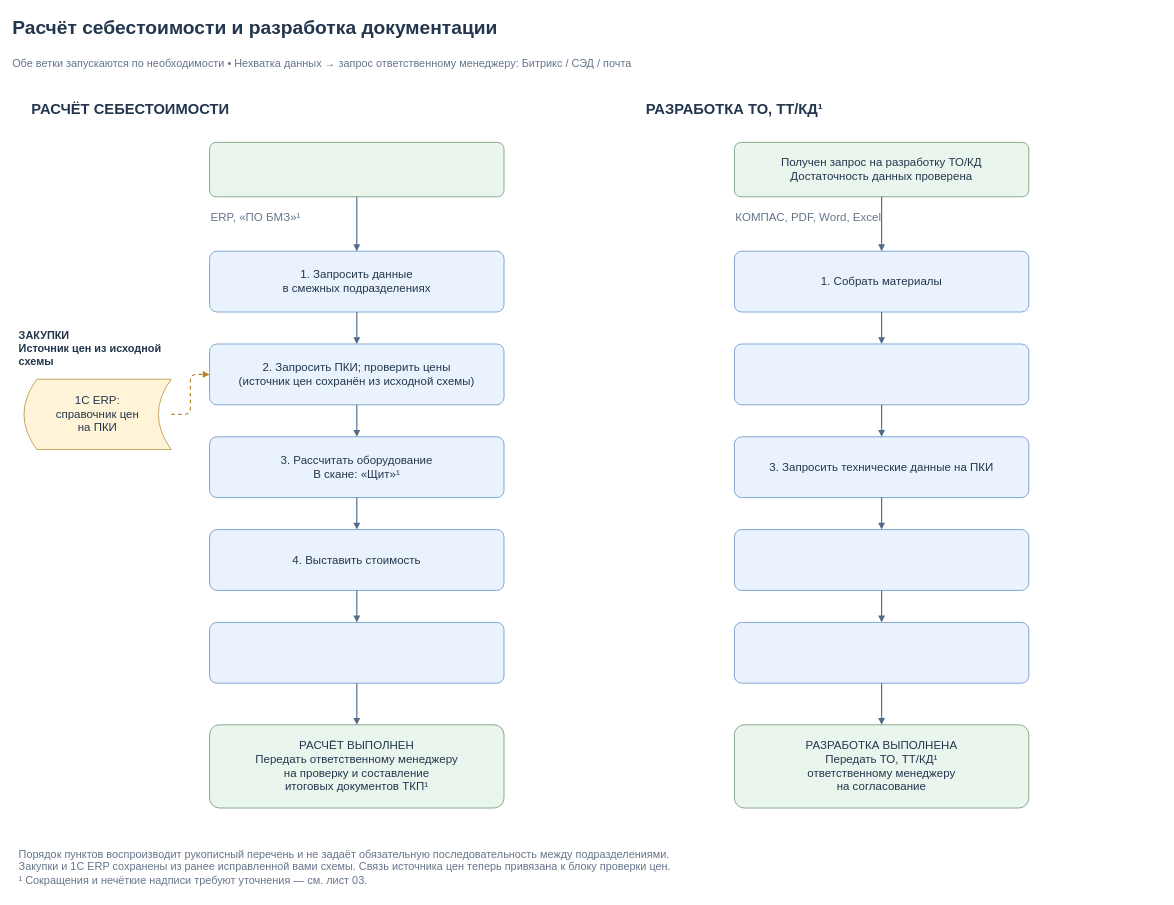
Image size: 1174x905. Some labels were removed from this diagram. Each missing label, with the centre of its shape:
"2. Направить запросы в смежные подразделения" belongs at [881,374].
"4. Сформировать отступления" belongs at [881,560].
"5. Проверить расчёты" belongs at [356,652].
"5. Проверить ТО, ТТ/КД¹" belongs at [881,652].
"Получен запрос на расчёт Достаточность данных проверена" belongs at [356,169].
